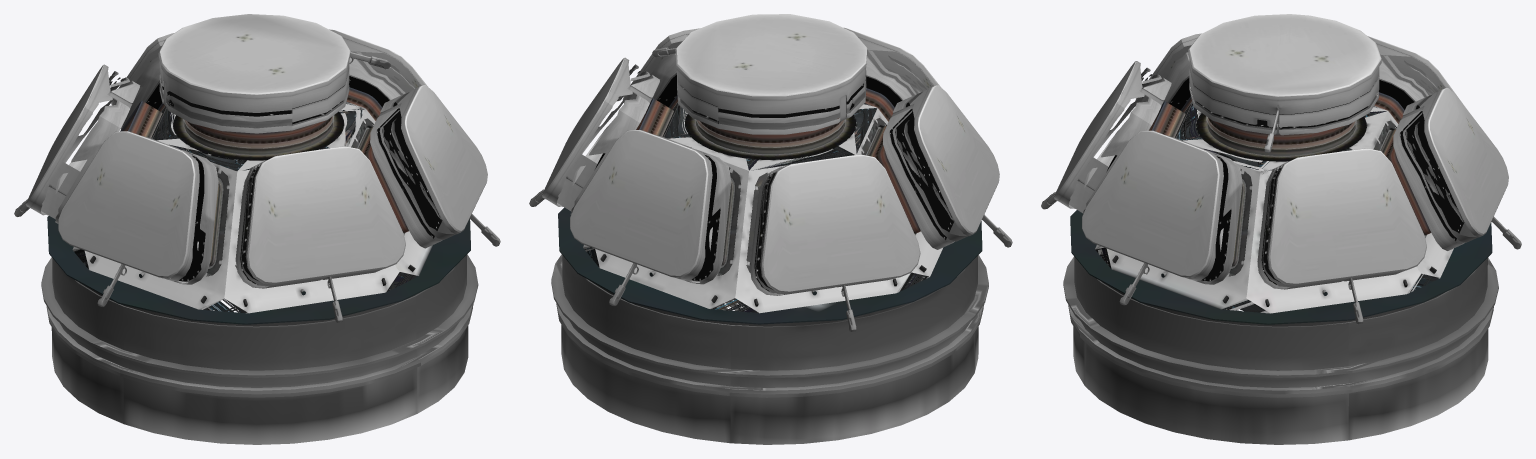
The model's file is cupola.dae.
3 renders of one model, left to right at view 1: azimuth 30°, elevation 25°; view 2: azimuth 150°, elevation 25°; view 3: azimuth 270°, elevation 25°, orthographic.
Visible parts, largest first — view 1: Cupola_Int_Cabin; view 2: Cupola_Int_Cabin; view 3: Cupola_Int_Cabin.
Part boxes in pixels (<box>): Cupola_Int_Cabin: <box>14,14,500,444</box>; Cupola_Int_Cabin: <box>529,14,1012,444</box>; Cupola_Int_Cabin: <box>1041,14,1521,444</box>.
Size of the model in its own units: 2.2 by 2.28 by 1.59.
Materials: 5 (4 with a texture image).
